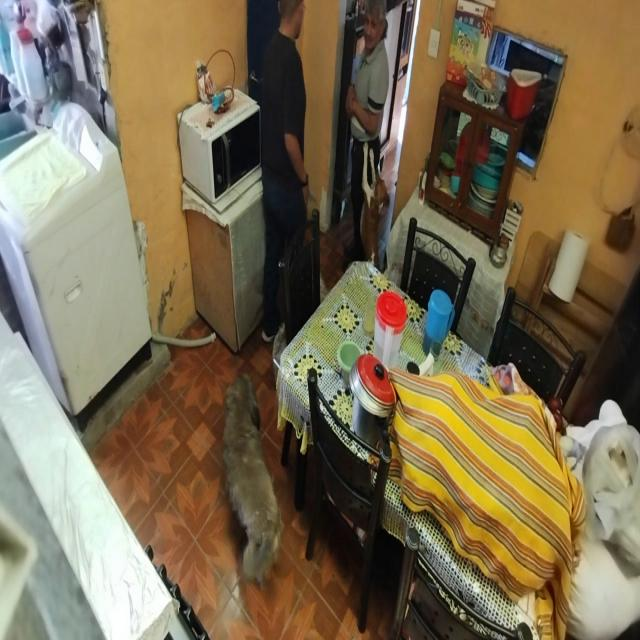adult: (259, 6, 311, 350), (340, 0, 397, 281)
